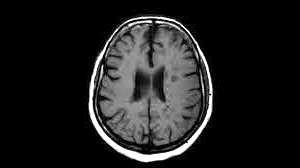Normal_Brain: (2, 1, 300, 168)
